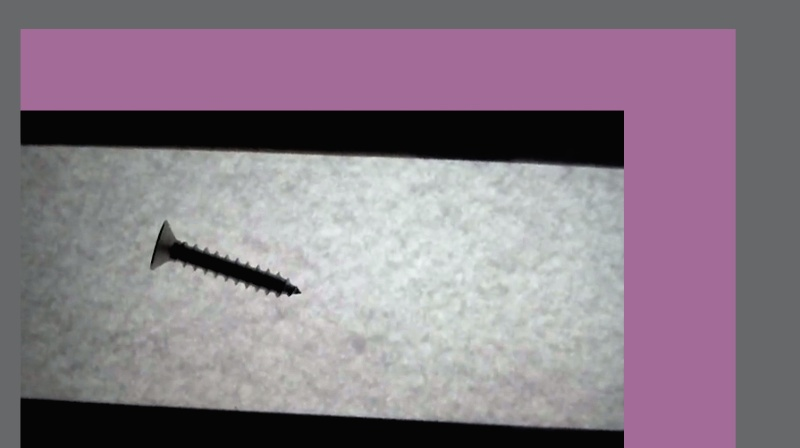S001: (146, 219, 307, 298)
